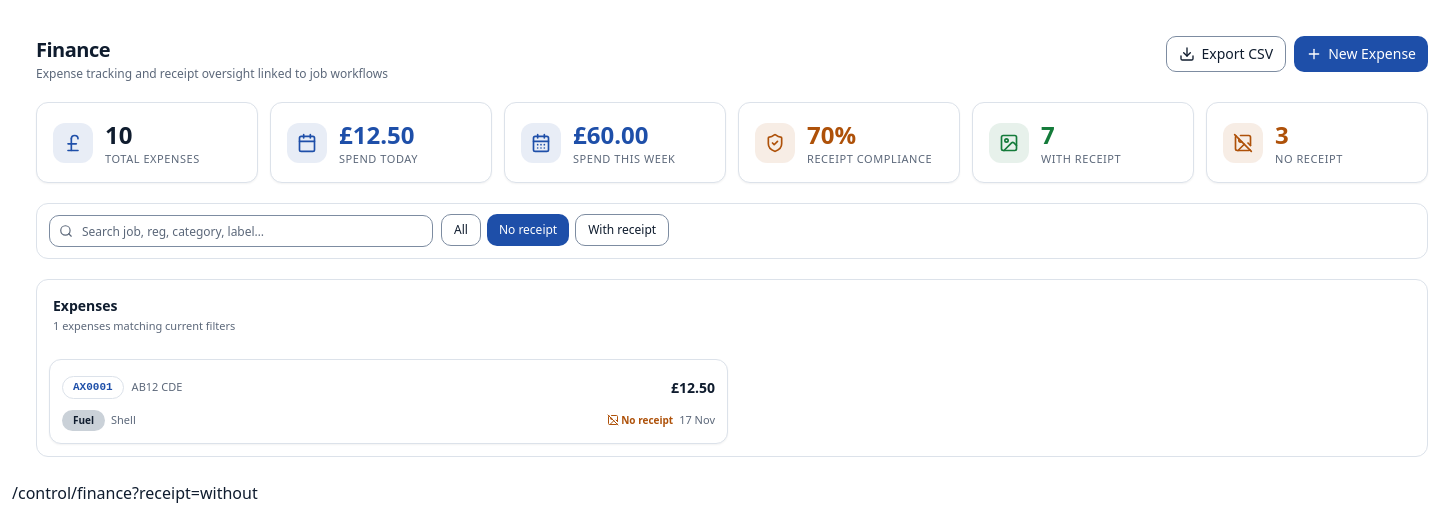
Test case: Finance screen › renders expense cards on phones; the job badge opens the job
Check: the text "No receipt" is shown, box [607, 413, 673, 428]
Click the button with aria-label "open job AX0001": (93, 388) [62, 372, 124, 404]
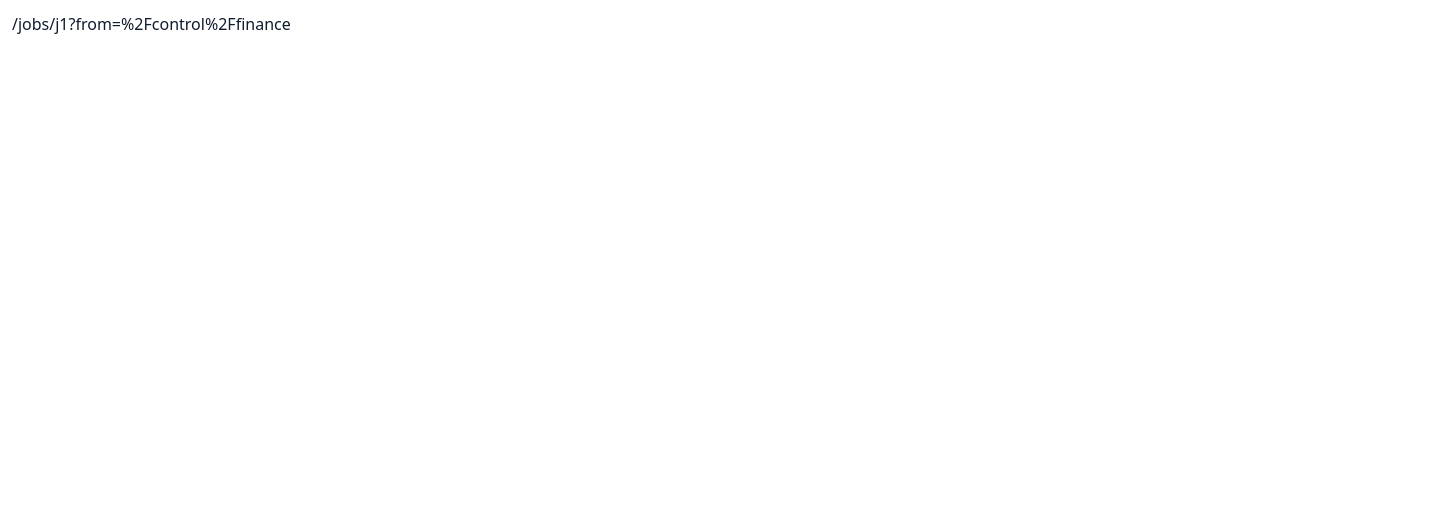
Check: the text with test id "loc" reads "/jobs/j1?from=%2Fcontrol%2Ffinance", box [12, 13, 291, 35]
